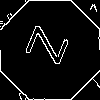Z: (25, 25, 79, 70)
